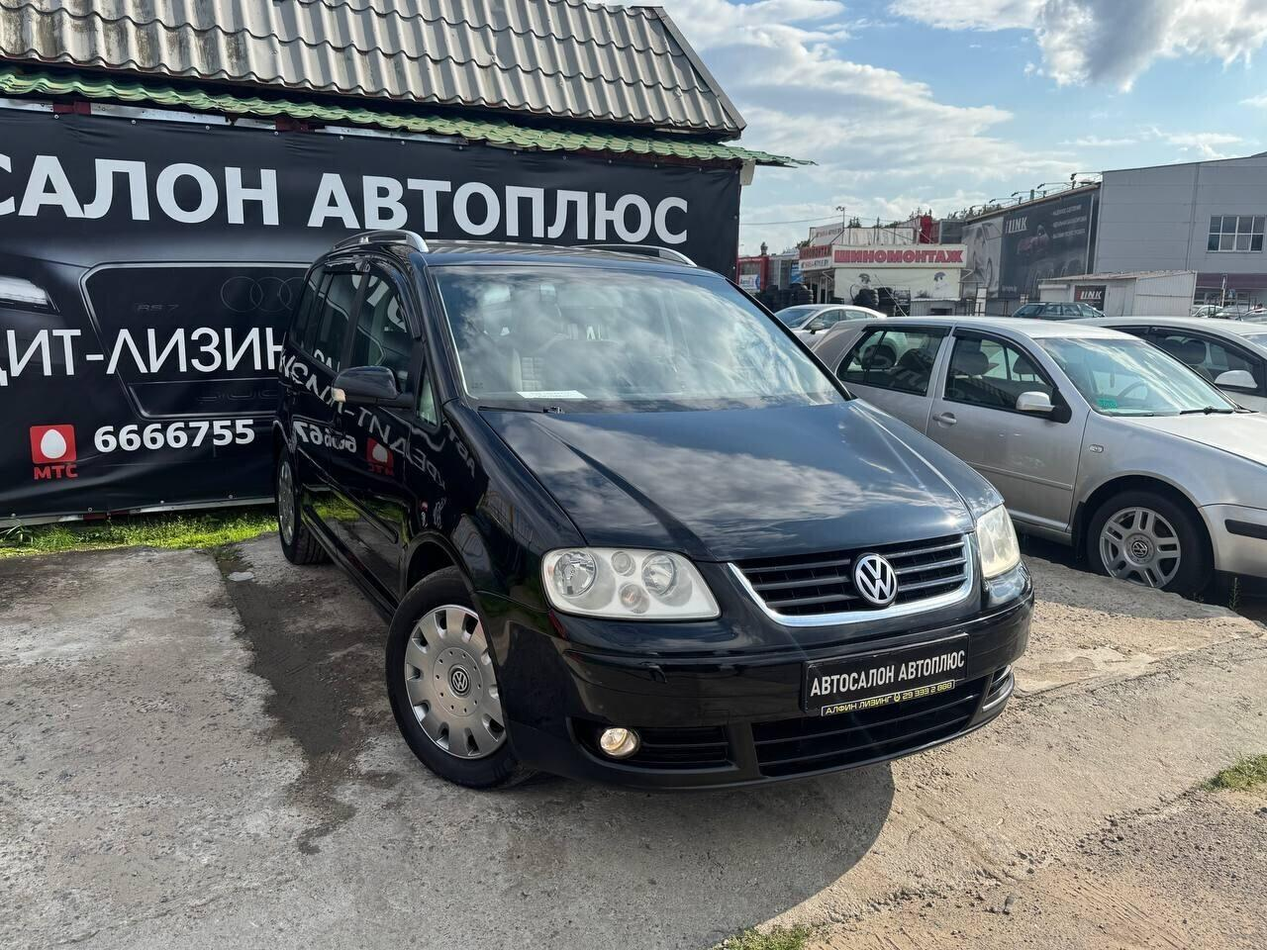Touran_2003-2006: (269, 233, 1037, 799)
